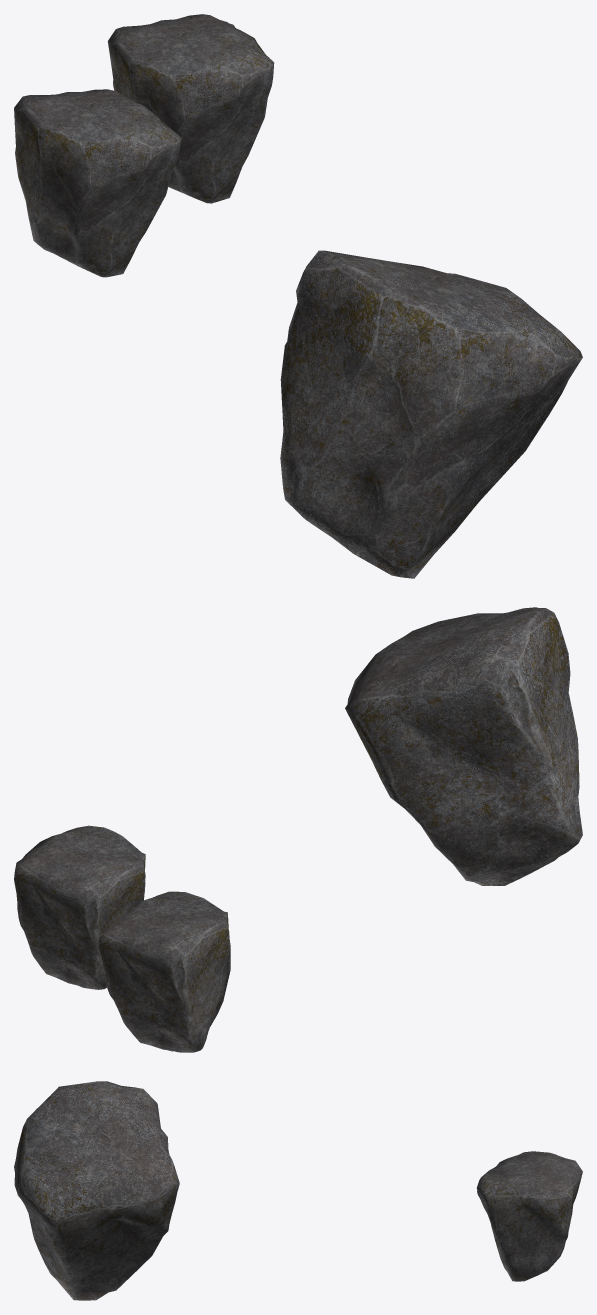
Rendered from SideHill_Rock.obj.
The picture shows the model from 3 angles, top to bottom: view 1: azimuth 30°, elevation 25°; view 2: azimuth 150°, elevation 25°; view 3: azimuth 270°, elevation 25°; orthographic projection. The views are drawn at different scales.
Parts seen in each view (by area): view 1: stone_big_2.002; view 2: stone_big_2.002; view 3: stone_big_2.002.
Part boxes in pixels (left/top/right/bottom): stone_big_2.002: left=14, top=14, right=582, bottom=578; stone_big_2.002: left=14, top=607, right=582, bottom=1052; stone_big_2.002: left=14, top=1081, right=582, bottom=1300.
Bounding box in the file's own units: 0.1704 × 0.1746 × 0.4405.
